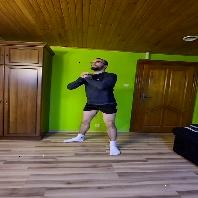squats: (64, 51, 131, 159)
